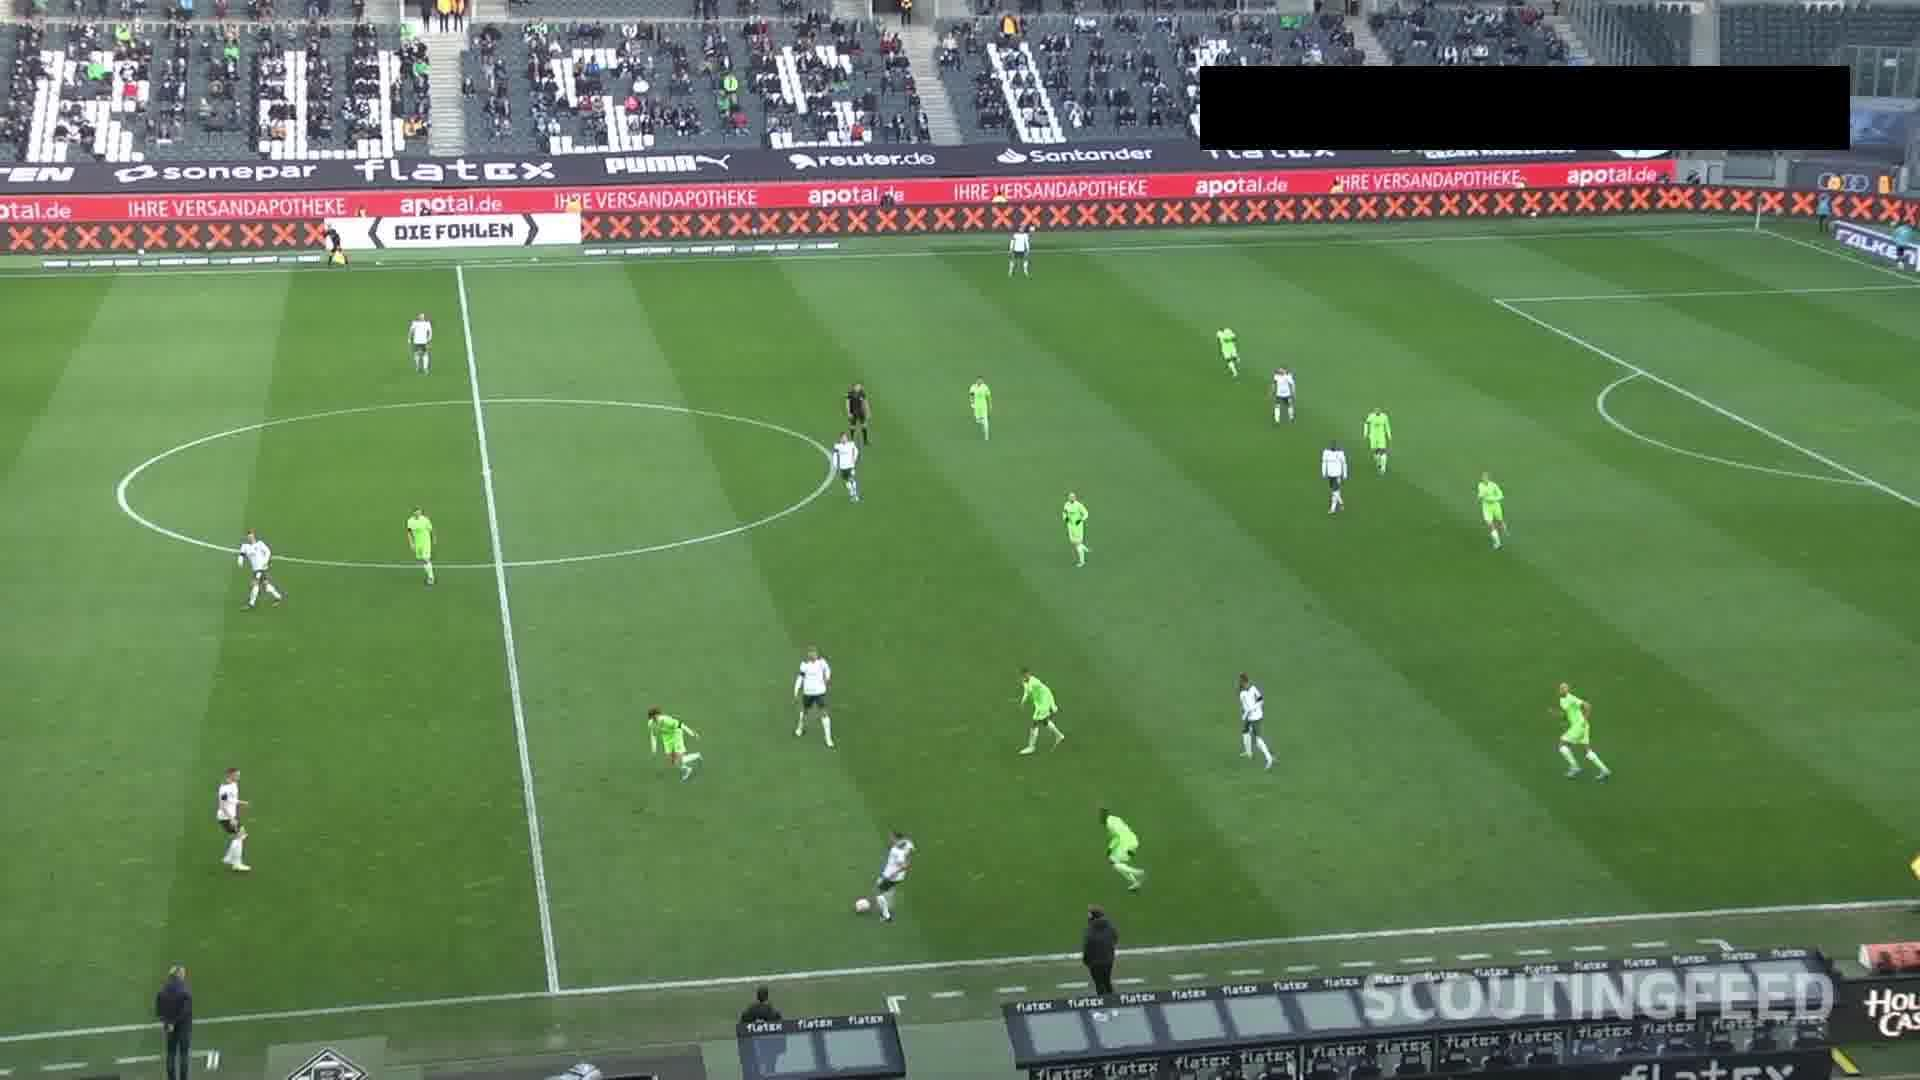football: (853, 897, 872, 915)
